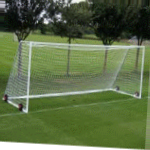goals: (2, 39, 147, 114)
